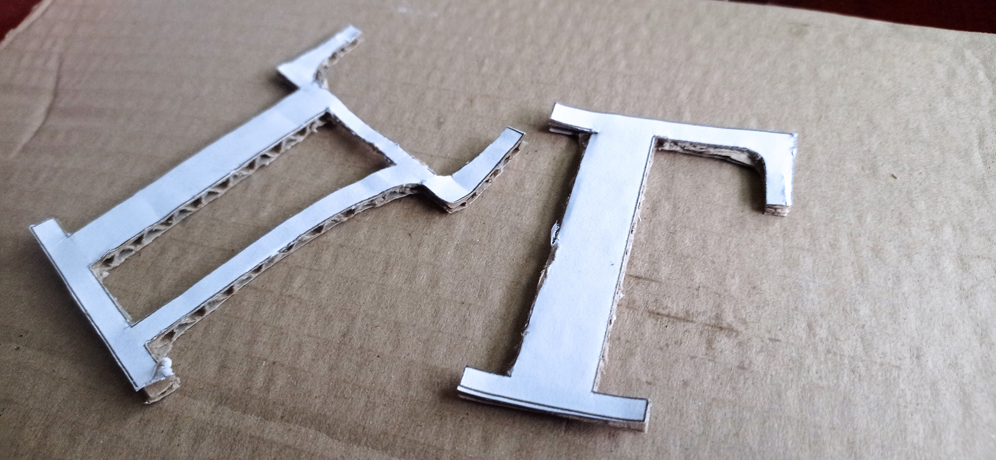d: (26, 25, 524, 405)
g: (454, 100, 798, 434)
